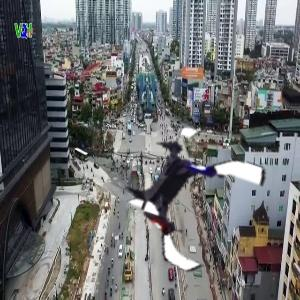drone: (117, 128, 264, 275)
